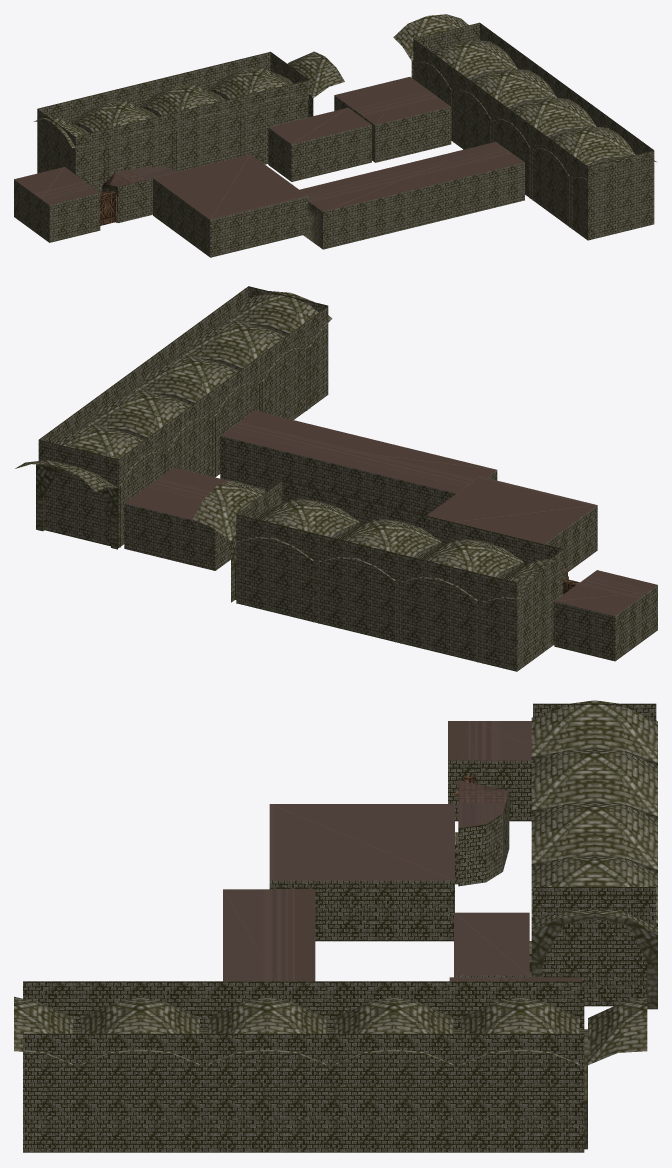
Rendered from pasillos.fbx.
3 renders of one model, top to bottom at view 1: azimuth 30°, elevation 25°; view 2: azimuth 150°, elevation 25°; view 3: azimuth 270°, elevation 25°, orthographic. The views are drawn at different scales.
Parts seen in each view (by area): view 1: hall.001, hall, room.005, room.004, arches.001, arches, room.003, room.001, room, habitacion; view 2: hall, hall.001, arches.001, room.005, arches, room.004, room.003, room; view 3: hall.001, arches, room.004, arches.001, hall, room.005, room, room.001, habitacion, room.003.
Part boxes in pixels (<box>): hall.001: <box>413,22,654,240</box>; hall: <box>37,51,308,193</box>; room.005: <box>299,142,524,249</box>; room.004: <box>153,154,308,257</box>; arches.001: <box>393,14,657,228</box>; arches: <box>33,51,344,183</box>; room.003: <box>334,77,451,162</box>; room.001: <box>268,107,371,181</box>; room: <box>14,167,100,242</box>; habitacion: <box>100,166,177,225</box>; hall: <box>236,480,563,671</box>; hall.001: <box>38,286,328,548</box>; arches.001: <box>15,291,332,549</box>; room.005: <box>220,410,497,515</box>; arches: <box>193,480,560,663</box>; room.004: <box>427,476,597,571</box>; room.003: <box>124,467,264,570</box>; room: <box>553,570,657,661</box>; hall.001: <box>23,981,584,1152</box>; arches: <box>531,700,657,1009</box>; room.004: <box>269,804,458,941</box>; arches.001: <box>14,996,647,1149</box>; hall: <box>533,703,656,1006</box>; room.005: <box>223,889,315,981</box>; room: <box>448,721,531,821</box>; room.001: <box>454,912,531,977</box>; habitacion: <box>458,775,509,886</box>; room.003: <box>449,977,581,981</box>.
Size of the model in its own units: 2996 by 4093 by 658.
11 materials, 10 textured.
